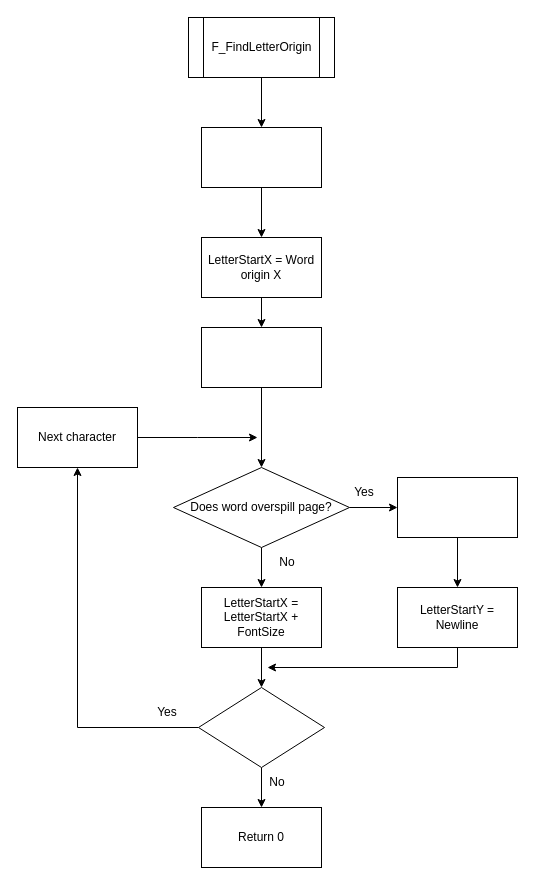
This 535x885 diagram has some shape labels left out. Each missing label, with the centre of its shape:
"Are there more characters in word?" belongs at point (261, 727).
"Character 1" belongs at point (261, 157).
"LetterStartX = 0" belongs at point (457, 507).
"LetterStartY = Word origin Y" belongs at point (261, 357).
